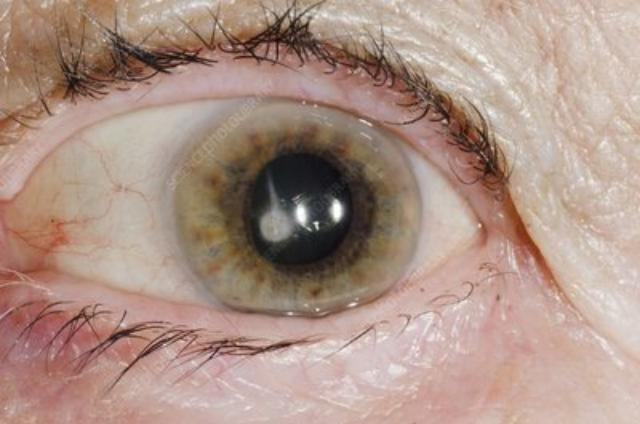eye: (168, 96, 426, 320)
